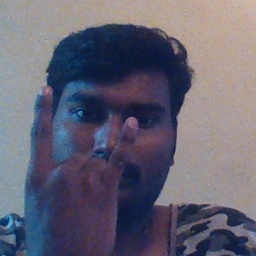V: (18, 82, 142, 256)
